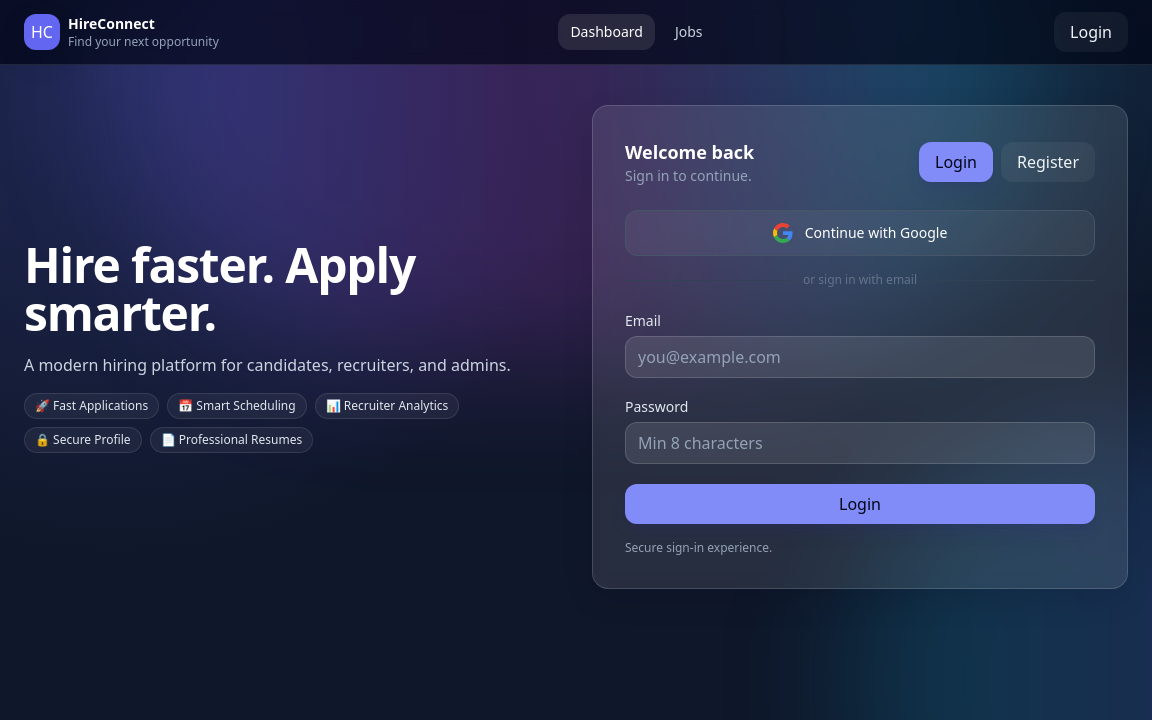
it: LoginPage › switches to register mode
This screenshot has width=1152, height=720.
What coordinates should you click on to do the following:
click the button "Register"
I would click on:
 (1048, 162)
Its box is [1001,142,1095,182].
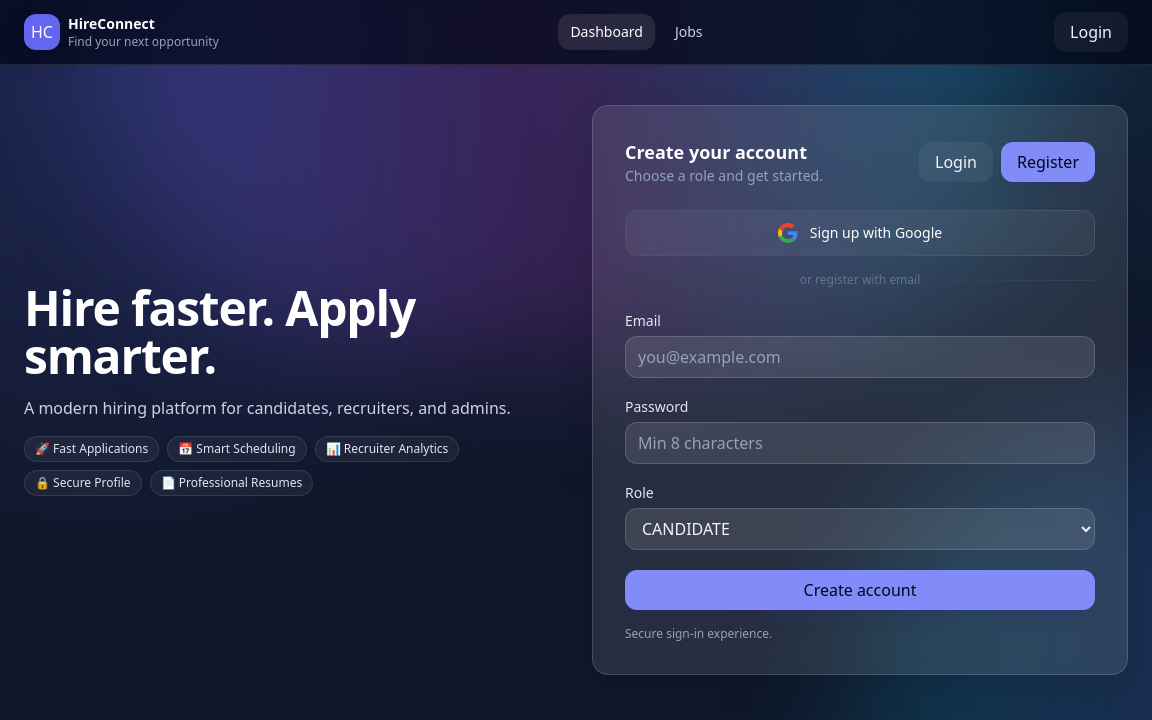
Expected: the text "Create your account" is shown, [625,138,823,166]
Expected: the dropdown labelled "Role" is shown, [625,508,1095,550]
